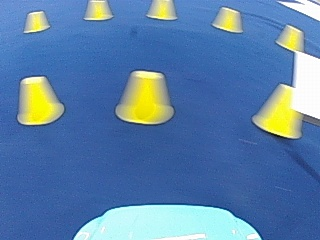cone: (116, 69, 173, 123), (252, 83, 301, 137), (16, 74, 63, 125), (211, 6, 242, 32), (275, 24, 303, 51), (147, 0, 177, 20), (24, 10, 49, 33), (84, 0, 111, 20)
